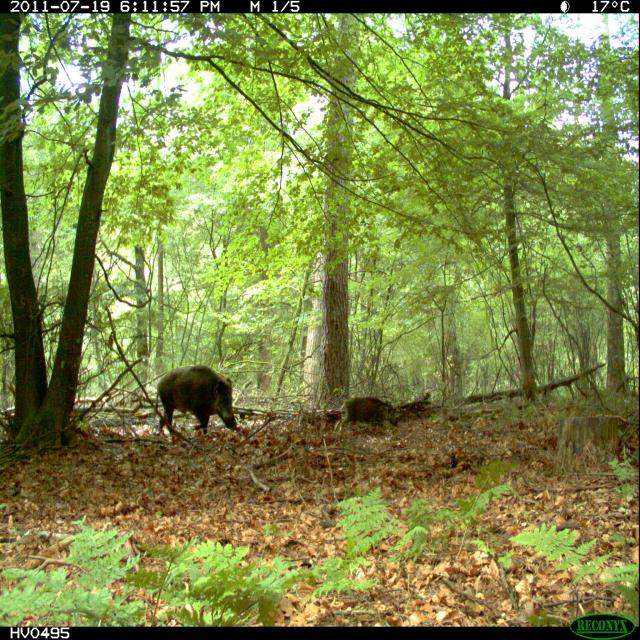boar: (141, 341, 247, 456)
